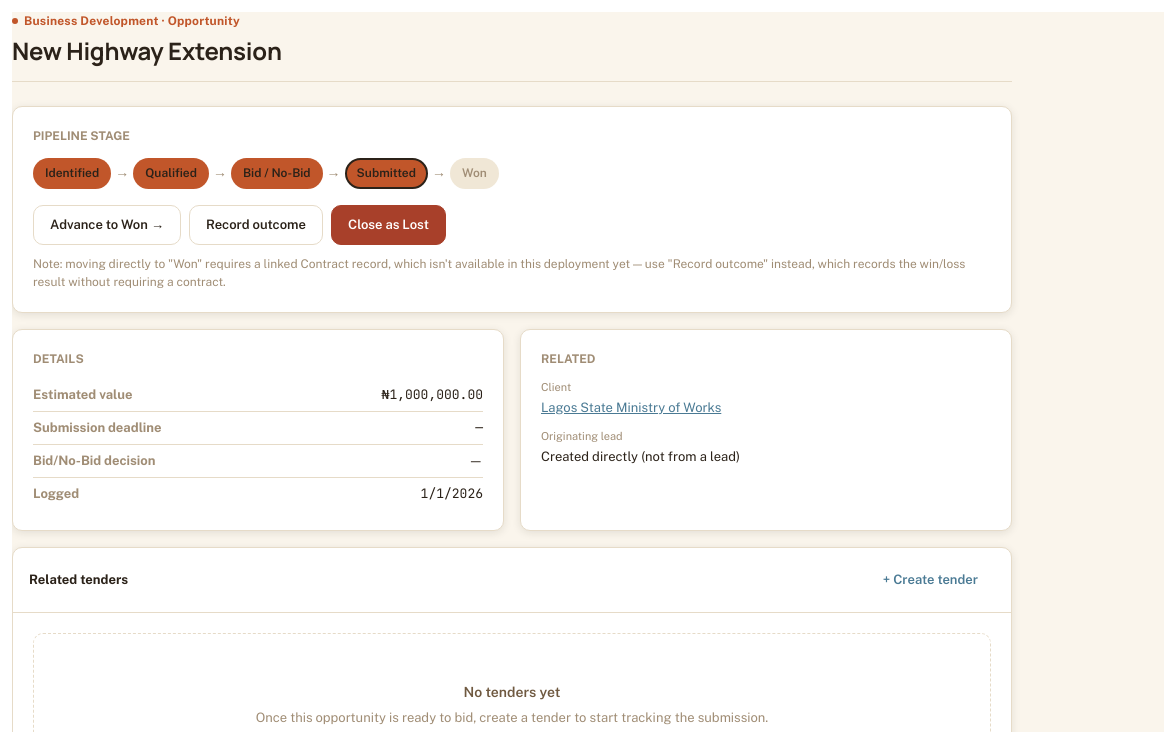
Test case: OpportunityDetailPage › surfaces the backend's real error message when a stage transition is rejected (e.g. won requires a contract)
Click the button "Advance to Won →".
click(107, 225)  # box x1=33 y1=205 x2=181 y2=245
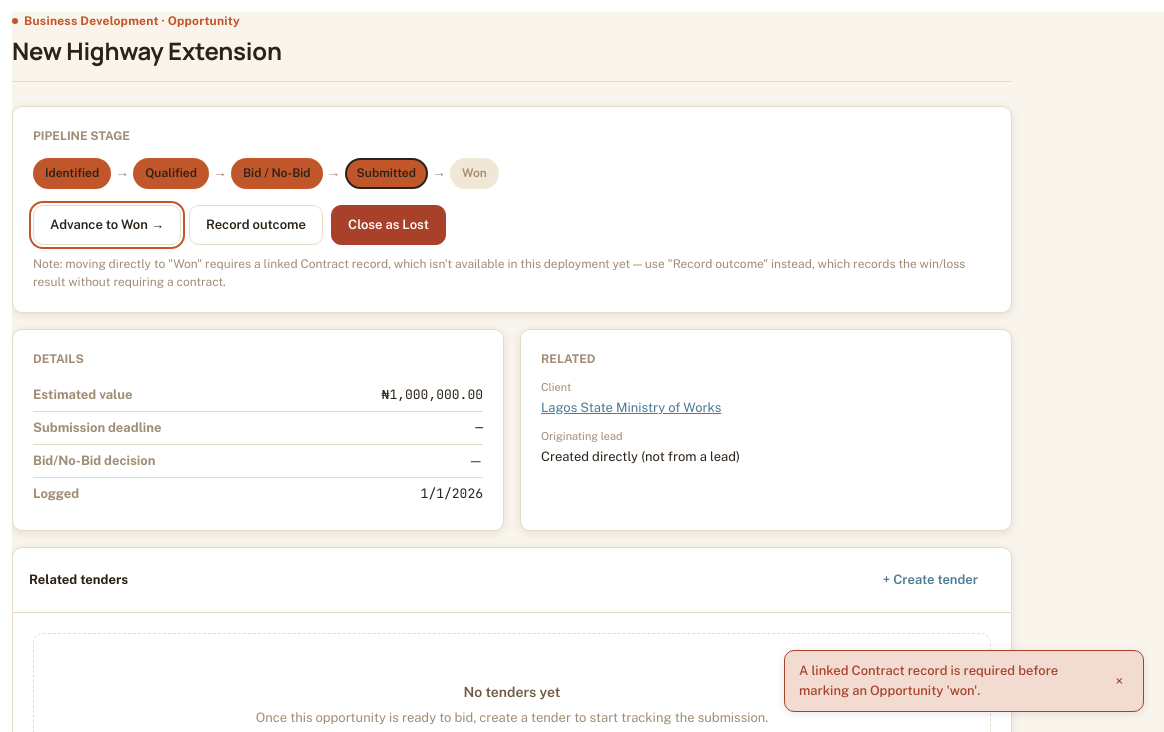
Expected: the text "linked Contract record is required" is shown, x1=799 y1=663 x2=1058 y2=698
